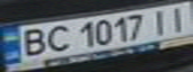0: (93, 16, 115, 46)
1: (72, 19, 96, 48), (112, 15, 130, 43)
7: (124, 11, 151, 39)
B: (12, 26, 51, 59)
C: (39, 23, 72, 53)
I: (163, 2, 193, 33), (145, 7, 175, 35)
